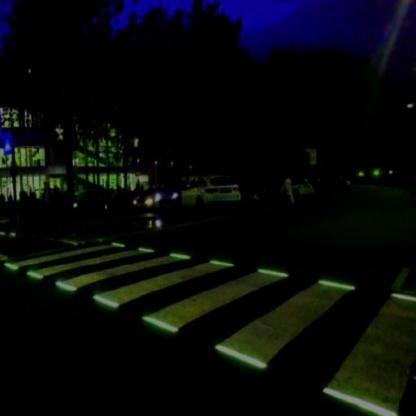crosswalk: (90, 256, 314, 337)
